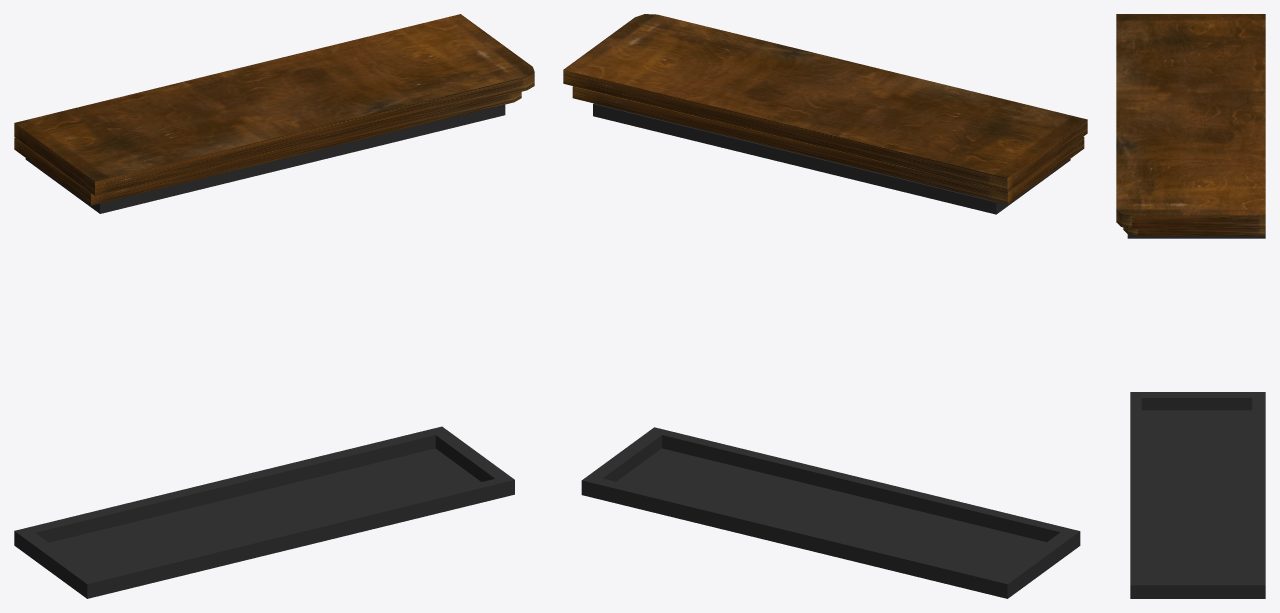
The model's file is left_small_banquet.obj.
3 renders of one model, left to right at view 1: azimuth 30°, elevation 25°; view 2: azimuth 150°, elevation 25°; view 3: azimuth 270°, elevation 25°, orthographic. The views are drawn at different scales.
Parts seen in each view (by area): view 1: small_banquet_Cube.001; view 2: small_banquet_Cube.001; view 3: small_banquet_Cube.001.
Boxes of the visible parts, x1,y1,x2,y2 form: small_banquet_Cube.001: (14,14,534,598); small_banquet_Cube.001: (563,14,1087,598); small_banquet_Cube.001: (1116,14,1265,598).
Size of the model in its own units: 0.971 by 0.8782 by 0.3033.
2 materials, 1 textured.
